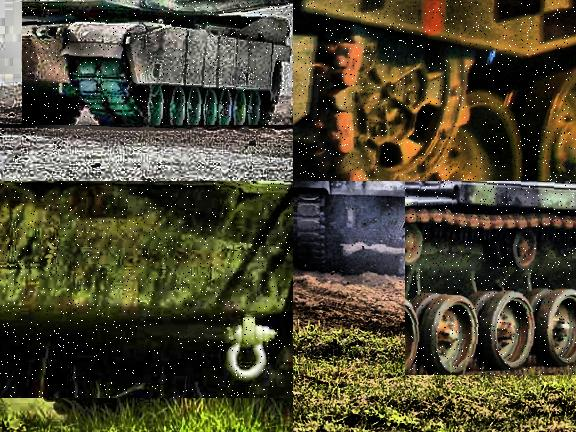tanks: (1, 182, 294, 399), (294, 1, 576, 182), (23, 1, 294, 126), (406, 182, 576, 376), (294, 182, 461, 270)
